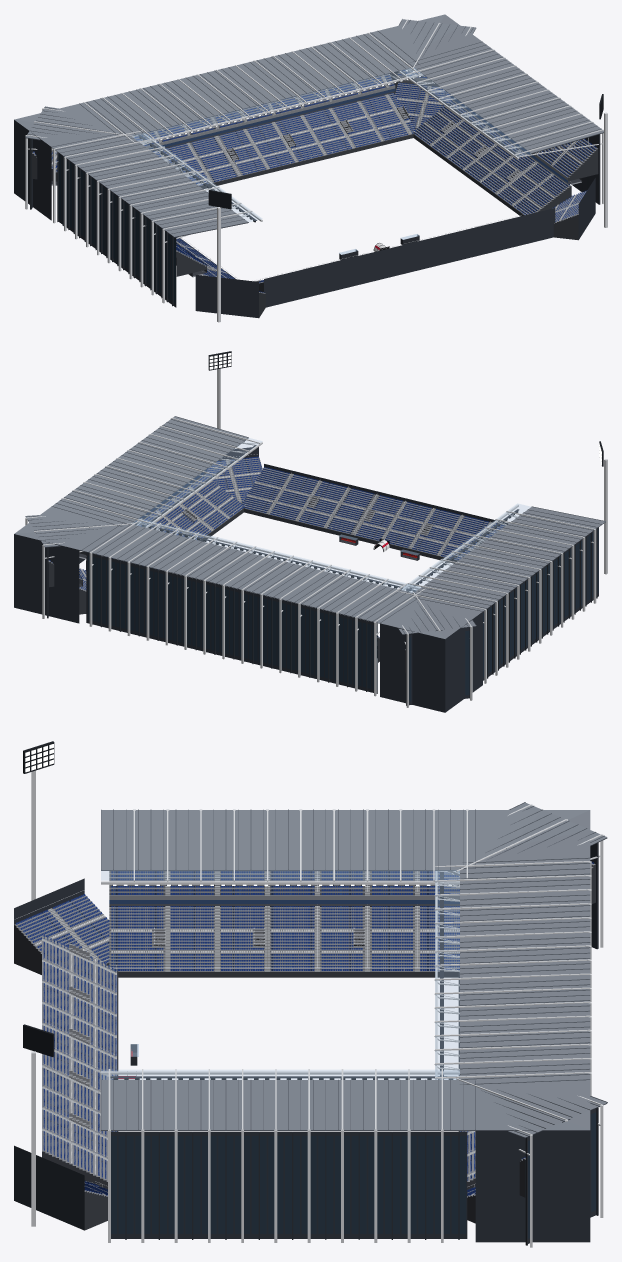
File: stadium.glb
The picture shows the model from 3 angles, top to bottom: view 1: azimuth 30°, elevation 25°; view 2: azimuth 150°, elevation 25°; view 3: azimuth 270°, elevation 25°; orthographic projection. The views are drawn at different scales.
Visible parts, largest first — view 1: Roof, Stands, Facade, Seats, RoofGlass, Aisles, Concourse, Masts, Railings, LED_Ribbon_0, Lamps, Vomitories; view 2: Roof, Facade, Stands, Seats, RoofGlass, Aisles, Lamps, Masts; view 3: Roof, Facade, Stands, Seats, RoofGlass, Aisles, Masts, Lamps, Concourse, Railings, LED_Ribbon_1, Vomitories.
Boxes of the visible parts, x1,y1,x2,y2 form: Roof: [14, 14, 603, 303]; Stands: [32, 70, 598, 317]; Facade: [14, 71, 600, 318]; Seats: [33, 70, 596, 292]; RoofGlass: [132, 67, 530, 221]; Aisles: [51, 75, 578, 273]; Concourse: [51, 72, 582, 277]; Masts: [208, 94, 607, 322]; Railings: [156, 73, 578, 281]; LED_Ribbon_0: [148, 88, 395, 150]; Lamps: [138, 70, 518, 222]; Vomitories: [169, 105, 522, 281]; Roof: [14, 416, 605, 707]; Facade: [14, 447, 598, 712]; Stands: [48, 457, 504, 673]; Seats: [49, 456, 504, 637]; RoofGlass: [133, 438, 530, 592]; Aisles: [83, 460, 492, 581]; Lamps: [134, 445, 519, 592]; Masts: [208, 351, 607, 574]; Roof: [101, 802, 607, 1247]; Facade: [14, 842, 598, 1245]; Stands: [14, 863, 595, 1230]; Seats: [16, 861, 593, 1195]; RoofGlass: [101, 870, 459, 1079]; Aisles: [42, 871, 475, 1176]; Masts: [23, 741, 54, 1226]; Lamps: [110, 872, 459, 1079]; Concourse: [109, 876, 459, 905]; Railings: [15, 871, 475, 1186]; LED_Ribbon_1: [109, 900, 459, 903]; Vomitories: [69, 927, 365, 1128].
Size of what is drawn, in the model's own units: 191 by 51.5 by 143.
